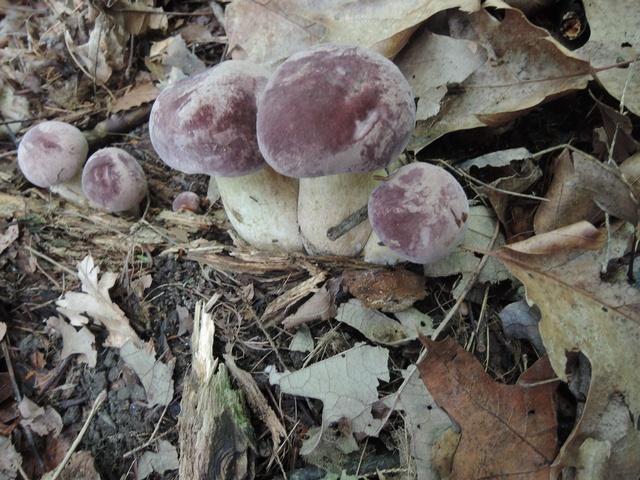Non-edible Mushroom: (254, 42, 417, 258), (147, 58, 302, 253), (366, 160, 470, 265), (14, 117, 84, 188), (80, 146, 148, 214)
